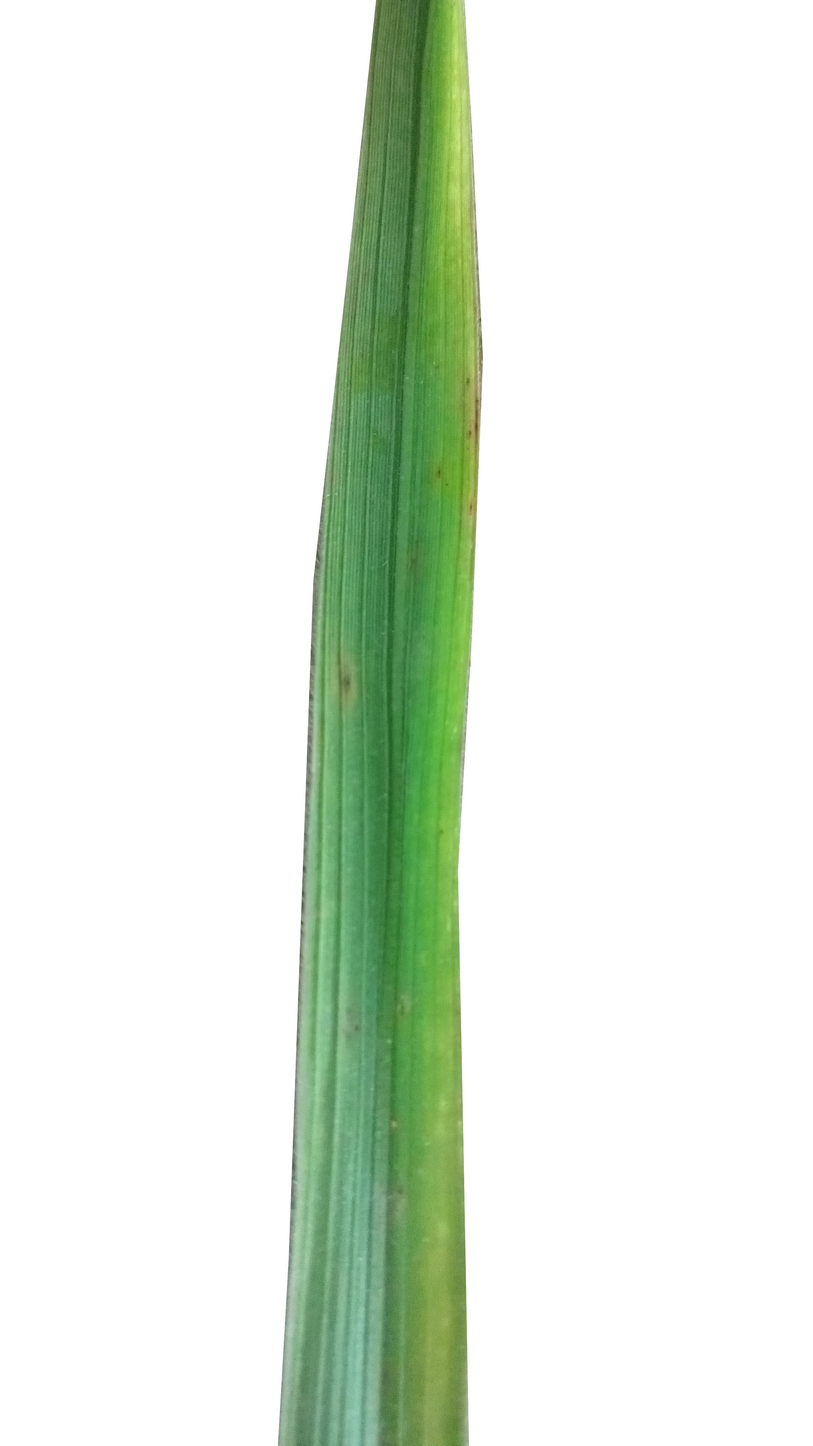Tungro: (441, 0, 490, 448)
